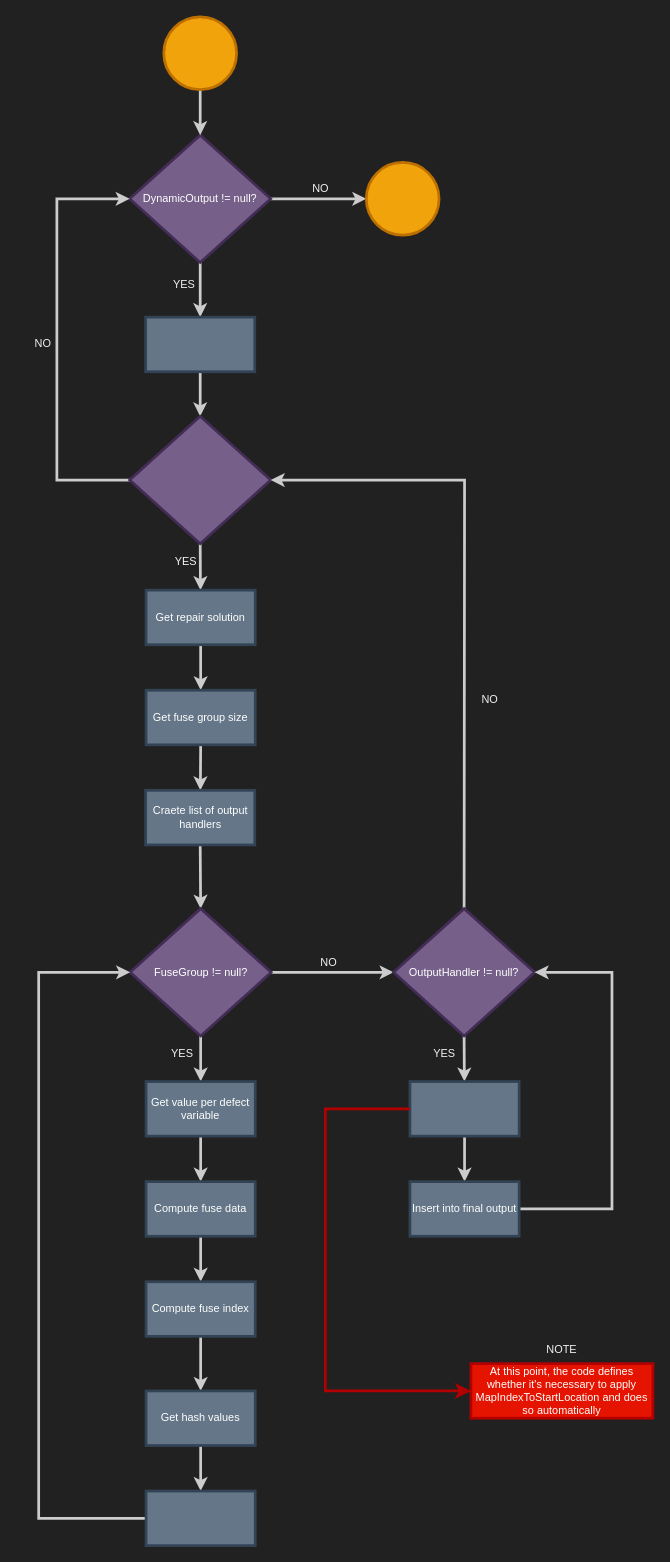
Image size: 670x1562. Some labels were removed from this diagram. The box of each missing label's shape, as (x1, y1, x2, y2) in pixels:
Create dynamic string: (408, 1080, 520, 1137)
End: (364, 161, 440, 236)
Get FuseMap: (144, 315, 256, 373)
Insert into outputHandler: (144, 1489, 256, 1547)
Resource != null?: (128, 415, 272, 545)
Start: (162, 15, 238, 91)
